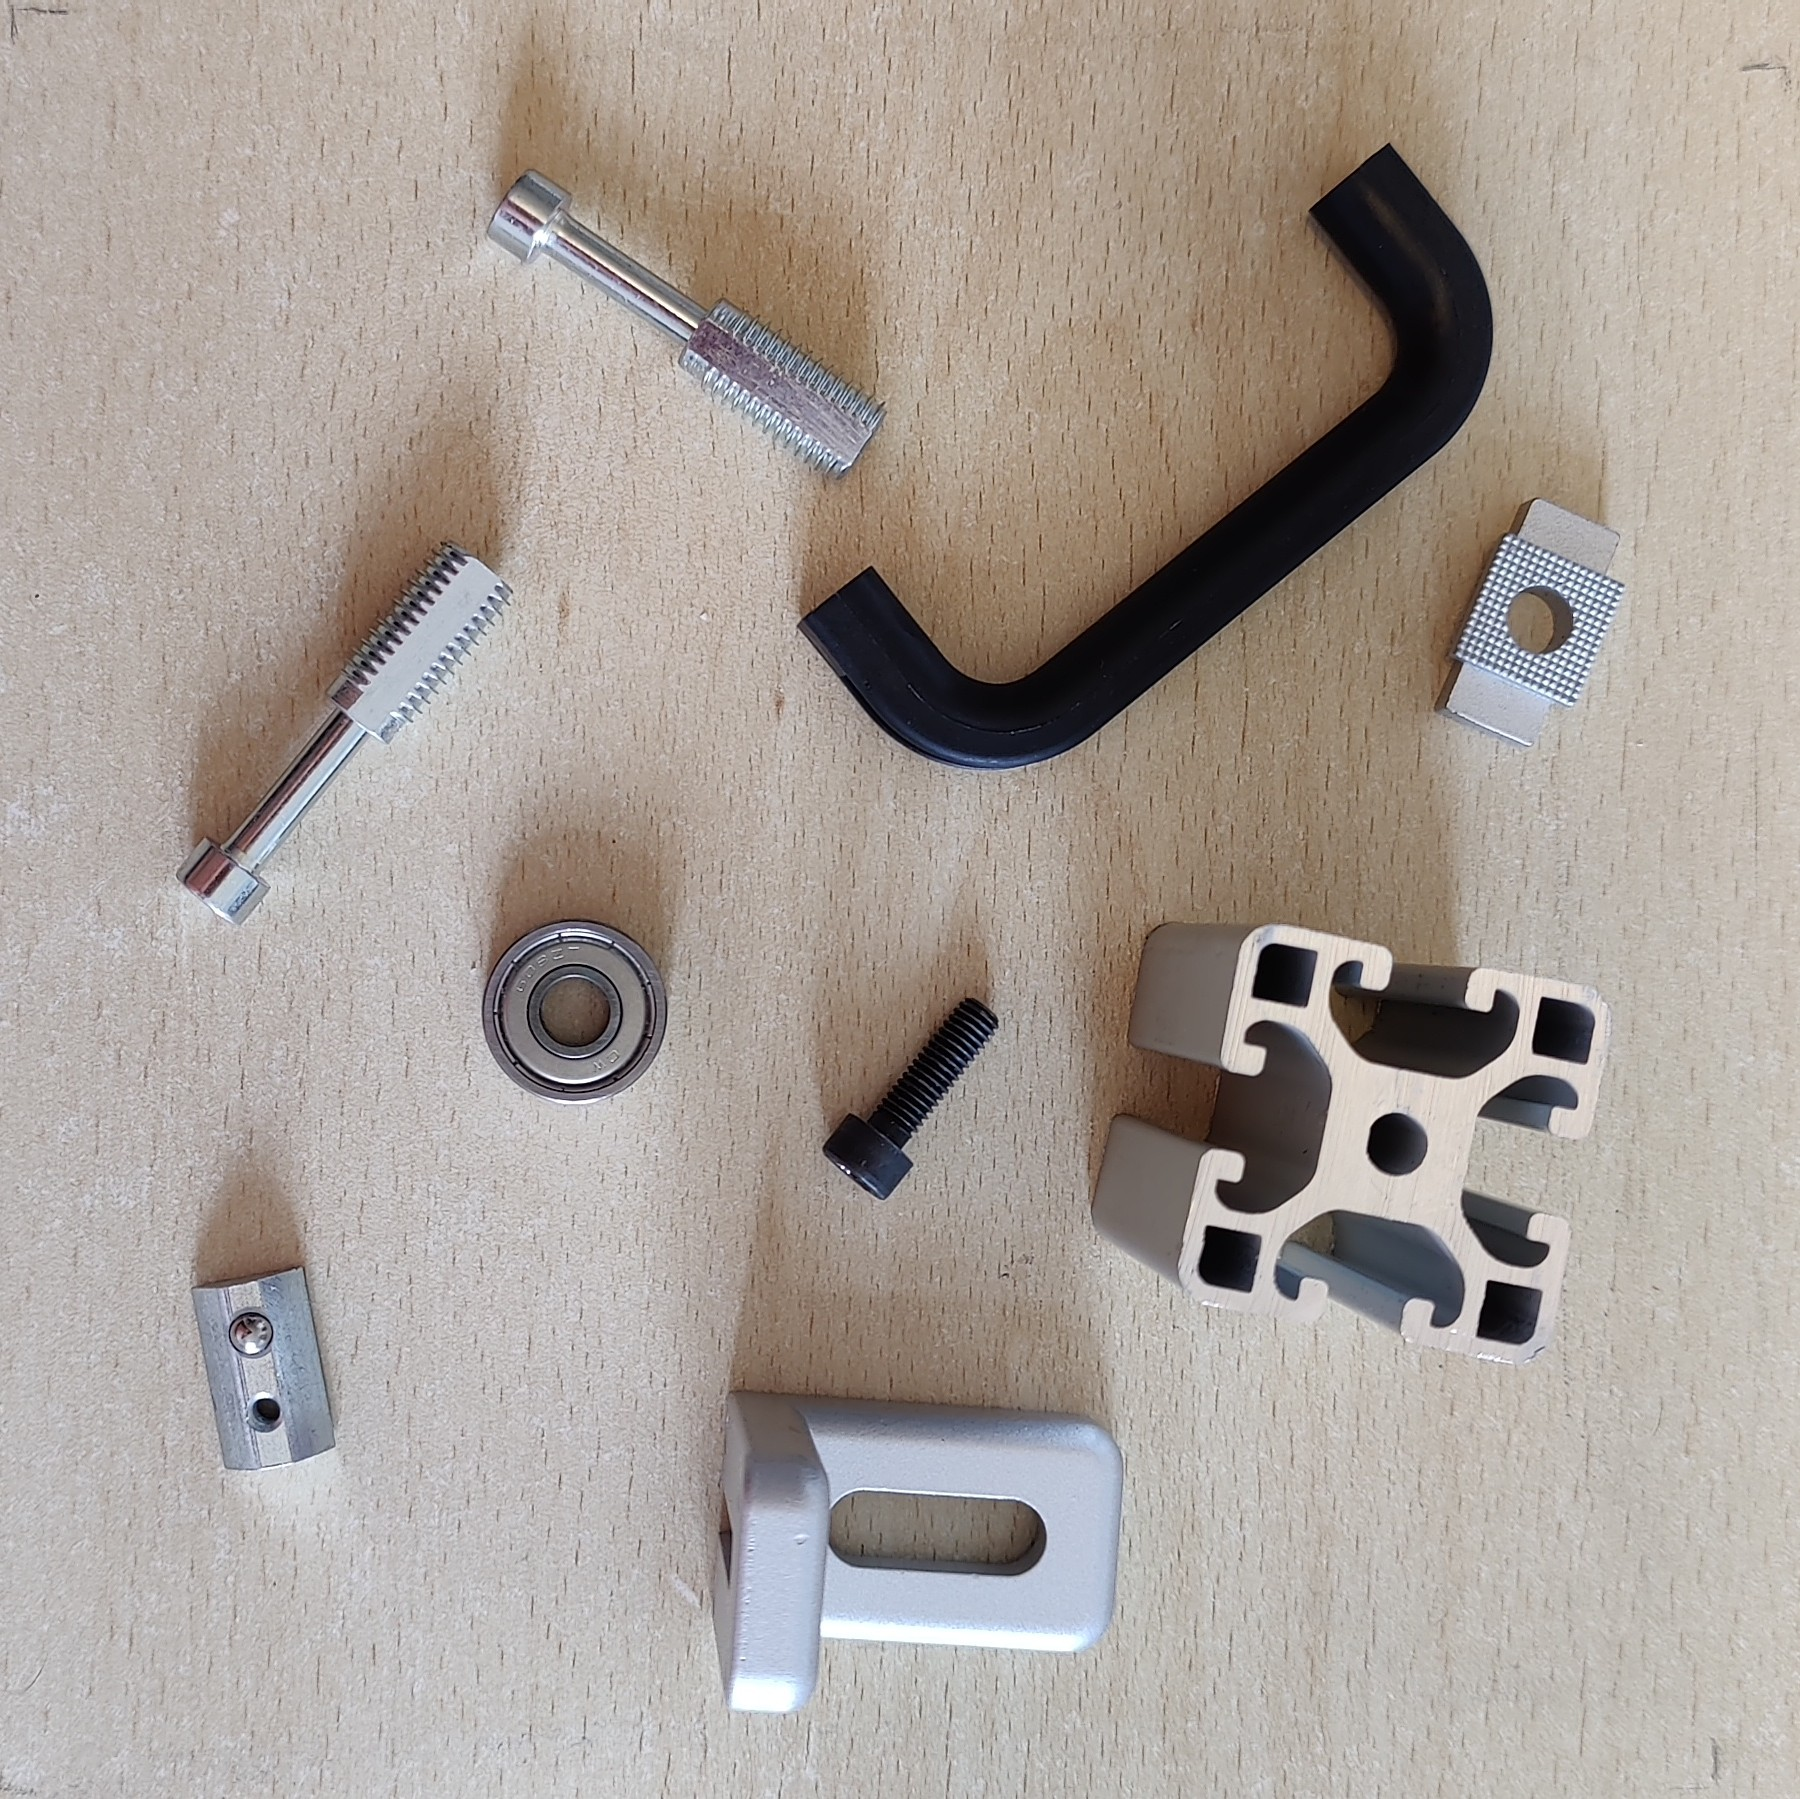Aluminium Extension: (1089, 918, 1609, 1367)
Ball Bearing: (479, 914, 670, 1109)
Multiwinkel: (710, 1385, 1130, 1718)
Pull Handle: (794, 137, 1495, 771)
Shoulder Socket Head Cap Screw: (175, 535, 515, 931), (486, 166, 889, 484)
Socket Head Cap Screw: (820, 992, 1001, 1203)
T Nut Square: (1431, 493, 1627, 751)
T Spring Nut: (189, 1259, 339, 1473)
